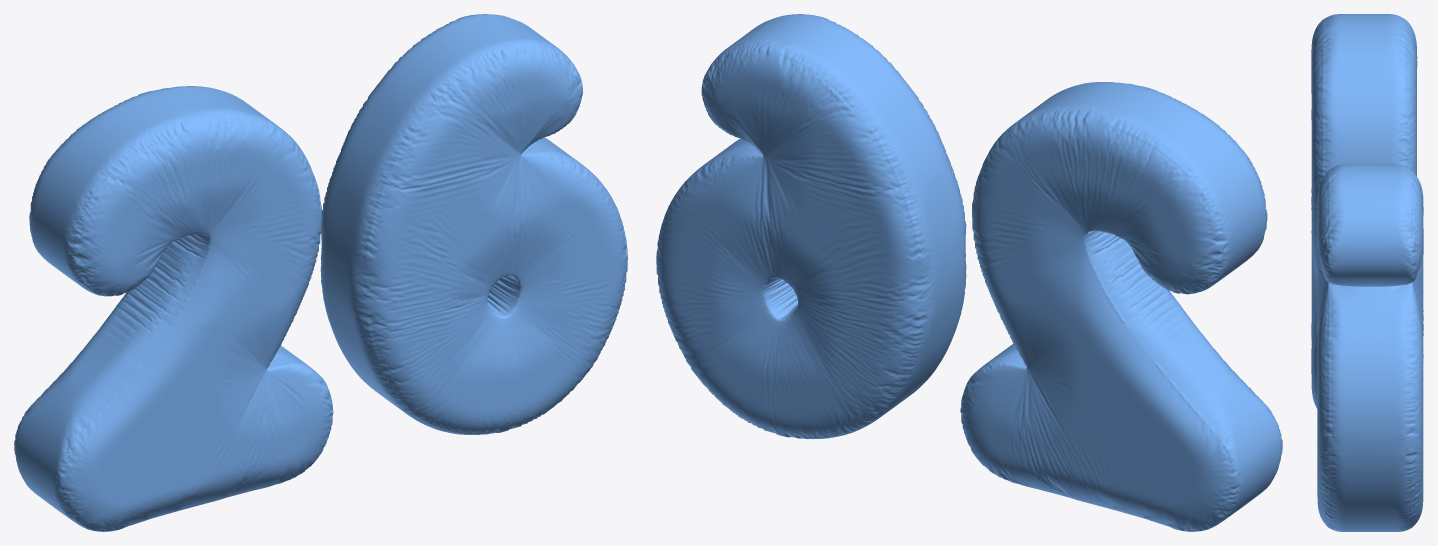
The model's file is jiwoobd.glb.
3 renders of one model, left to right at view 1: azimuth 30°, elevation 25°; view 2: azimuth 150°, elevation 25°; view 3: azimuth 270°, elevation 25°, orthographic. The views are drawn at different scales.
Parts seen in each view (by area): view 1: 2, 6; view 2: 2, 6; view 3: 6, 2.
Part boxes in pixels (x1,y1,x2,y2): 2: (14,86,333,531); 6: (320,14,627,434); 2: (960,82,1282,531); 6: (656,14,966,439); 6: (1317,164,1423,531); 2: (1311,14,1417,408).
Size of the model in its own units: 1.01 by 0.6725 by 0.1897.
